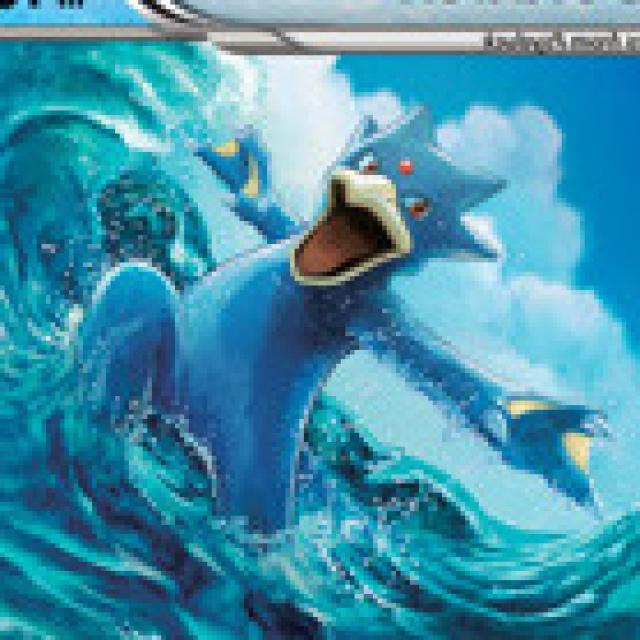Golduck: (147, 100, 603, 538)
